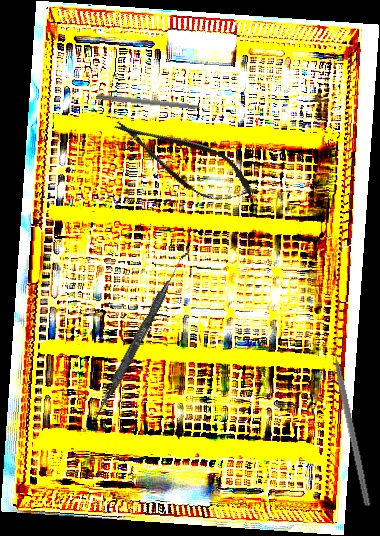Chopper: (328, 333, 380, 507)
Hook Surgical: (95, 93, 215, 114)
Micro Scissor: (104, 102, 263, 219)
Spatula Surgical: (92, 248, 189, 423)
